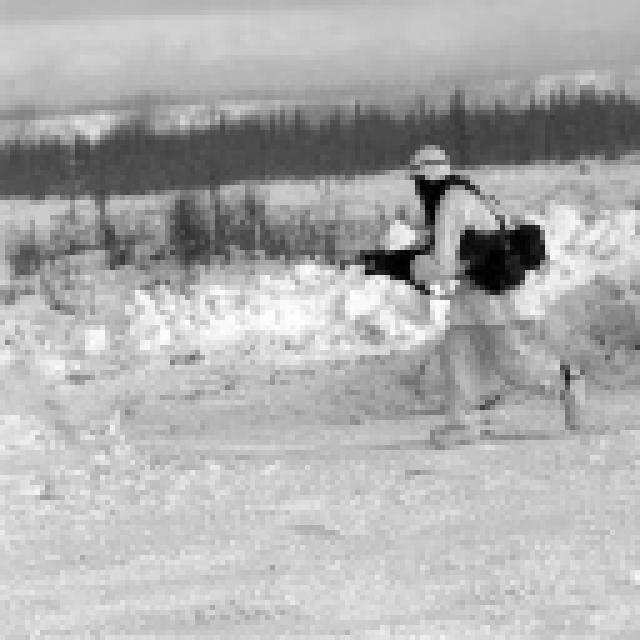Rifle: (336, 227, 530, 330)
